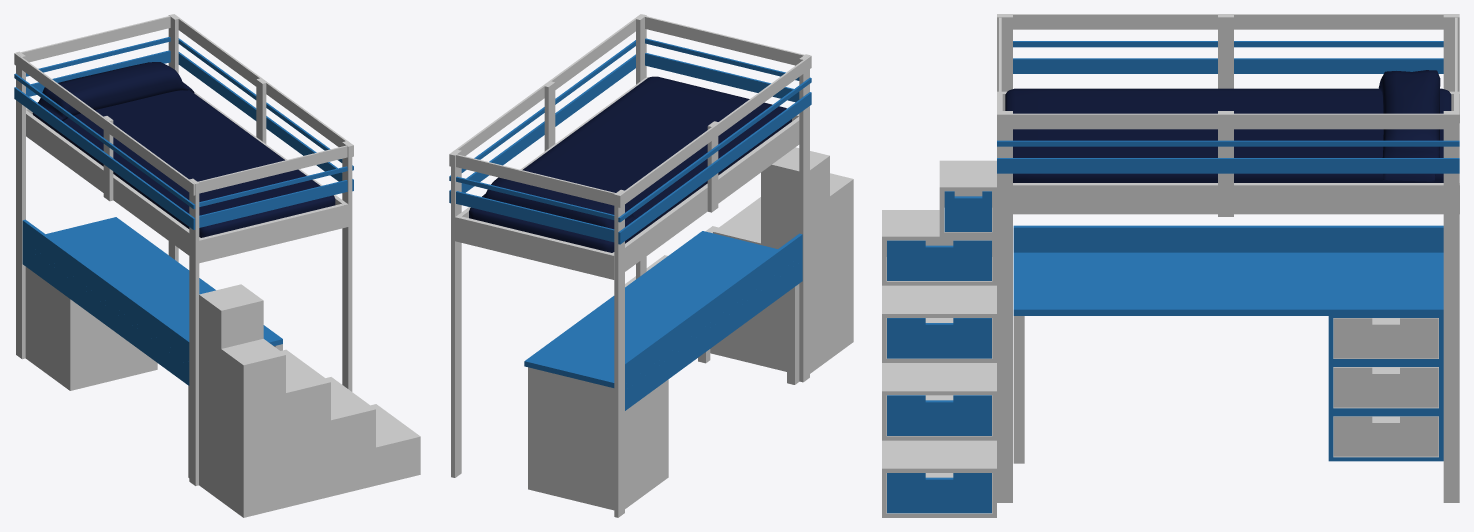
File: mezzanine-bed.obj
3 renders of one model, left to right at view 1: azimuth 30°, elevation 25°; view 2: azimuth 150°, elevation 25°; view 3: azimuth 270°, elevation 25°, orthographic. The views are drawn at different scales.
Parts seen in each view (by area): view 1: stairs_Cube.027, handrailBed_Cube.001, Cube.015_Cube.018, mattress_Cube.044, Cube.001_Cube.002, box_Cube.003, Cube.009_Cube.012, pillow_Cube.004, stair_Cube.034; view 2: Cube.015_Cube.018, handrailBed_Cube.001, mattress_Cube.044, box_Cube.003, stairs_Cube.027, Cube.001_Cube.002, Cube.009_Cube.012, stair_Cube.034, pillow_Cube.004; view 3: Cube.015_Cube.018, handrailBed_Cube.001, mattress_Cube.044, stairs_Cube.027, Cube.001_Cube.002, Cube.009_Cube.012, drawers_Cube, box_Cube.003, pillow_Cube.004, drawerstairs4_Cube.029, drawerstairs3_Cube.042, drawerstairs2_Cube.041 (+3 smaller).
Boxes of the visible parts, left/top/right/bottom form: stairs_Cube.027: left=199, top=333, right=420, bottom=517; handrailBed_Cube.001: left=14, top=14, right=353, bottom=229; Cube.015_Cube.018: left=22, top=217, right=282, bottom=477; mattress_Cube.044: left=33, top=90, right=335, bottom=237; Cube.001_Cube.002: left=16, top=14, right=352, bottom=485; box_Cube.003: left=25, top=267, right=157, bottom=390; Cube.009_Cube.012: left=26, top=91, right=348, bottom=263; pillow_Cube.004: left=32, top=62, right=194, bottom=120; stair_Cube.034: left=199, top=284, right=263, bottom=348; Cube.015_Cube.018: left=524, top=231, right=802, bottom=410; handrailBed_Cube.001: left=449, top=14, right=811, bottom=244; mattress_Cube.044: left=469, top=76, right=791, bottom=252; box_Cube.003: left=528, top=367, right=668, bottom=510; stairs_Cube.027: left=625, top=173, right=853, bottom=373; Cube.001_Cube.002: left=451, top=14, right=809, bottom=517; Cube.009_Cube.012: left=455, top=77, right=799, bottom=279; stair_Cube.034: left=761, top=147, right=829, bottom=211; pillow_Cube.004: left=482, top=177, right=636, bottom=229; Cube.015_Cube.018: left=1013, top=225, right=1443, bottom=463; handrailBed_Cube.001: left=997, top=14, right=1459, bottom=173; mattress_Cube.044: left=1005, top=88, right=1451, bottom=182; stairs_Cube.027: left=882, top=210, right=996, bottom=517; Cube.001_Cube.002: left=997, top=15, right=1459, bottom=502; Cube.009_Cube.012: left=997, top=91, right=1459, bottom=214; drawers_Cube: left=1333, top=318, right=1438, bottom=456; box_Cube.003: left=1328, top=316, right=1443, bottom=461; pillow_Cube.004: left=1378, top=70, right=1440, bottom=181; drawerstairs4_Cube.029: left=887, top=473, right=991, bottom=513; drawerstairs3_Cube.042: left=887, top=395, right=991, bottom=435; drawerstairs2_Cube.041: left=887, top=318, right=991, bottom=358.
Size of the model in its own units: 122 by 193 by 259.
